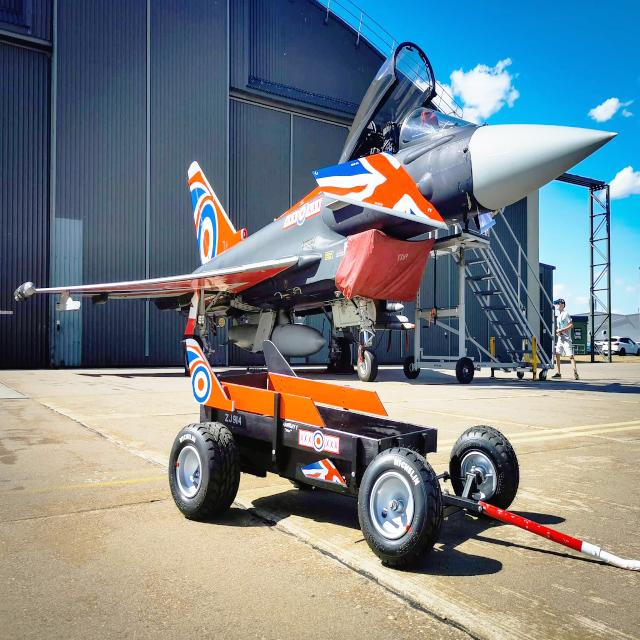Aircraft: (14, 39, 618, 380)
